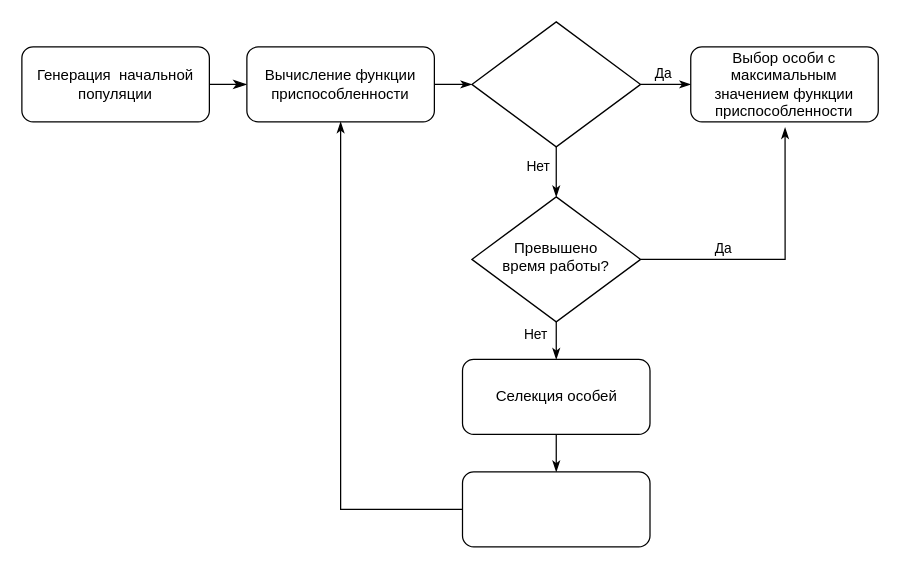
Image size: 901x569. Some labels were removed from this diagram. Here are the shapes that lost their labels. From the top down, the centre of each, then its label:
At (x=556, y=84): "Достигнуто максимальное значение?".
At (x=555, y=509): "Мутация".
